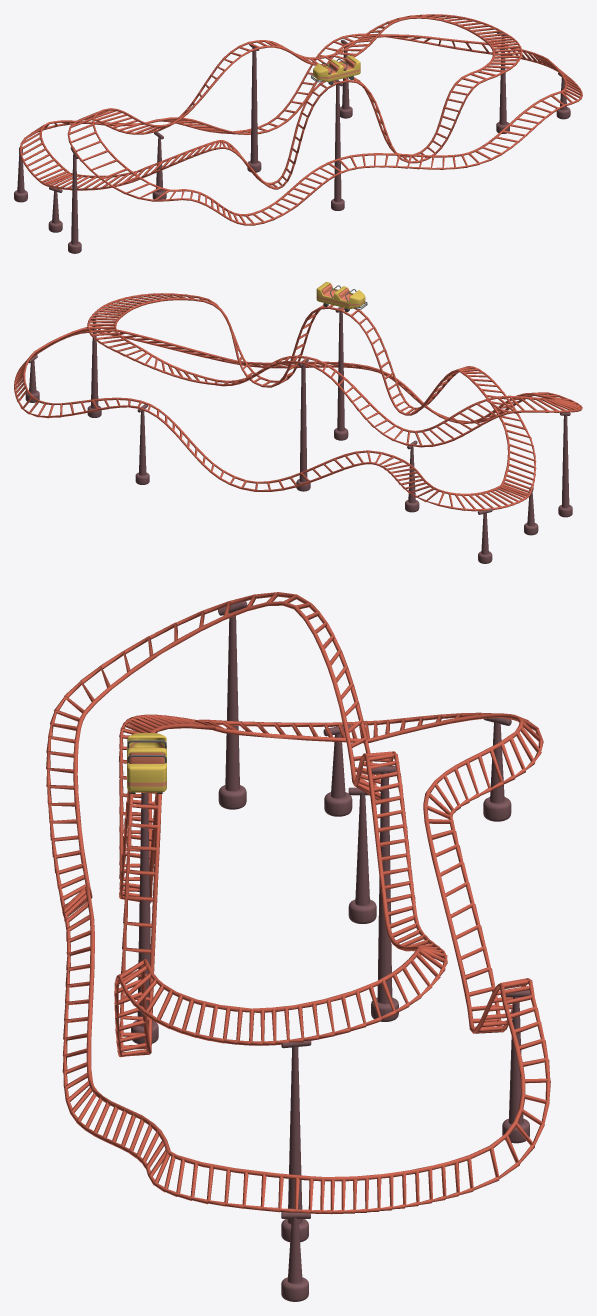
File: rollerCoster.fbx
3 views of the same model, one above another, from view 1: azimuth 30°, elevation 25°; view 2: azimuth 150°, elevation 25°; view 3: azimuth 270°, elevation 25° (orthographic). The views are drawn at different scales.
Parts seen in each view (by area): view 1: yol, demirayaklar, tren; view 2: yol, demirayaklar, tren; view 3: yol, demirayaklar, tren.
Part boxes in pixels (x1,y1,x2,y2): yol: [19, 14, 582, 225]; demirayaklar: [14, 31, 570, 253]; tren: [311, 55, 360, 85]; yol: [14, 293, 582, 511]; demirayaklar: [25, 307, 572, 563]; tren: [316, 282, 367, 312]; yol: [46, 592, 550, 1214]; demirayaklar: [131, 601, 530, 1301]; tren: [127, 733, 166, 793].
Bounding box in the file's own units: 3572 × 962 × 1512.
